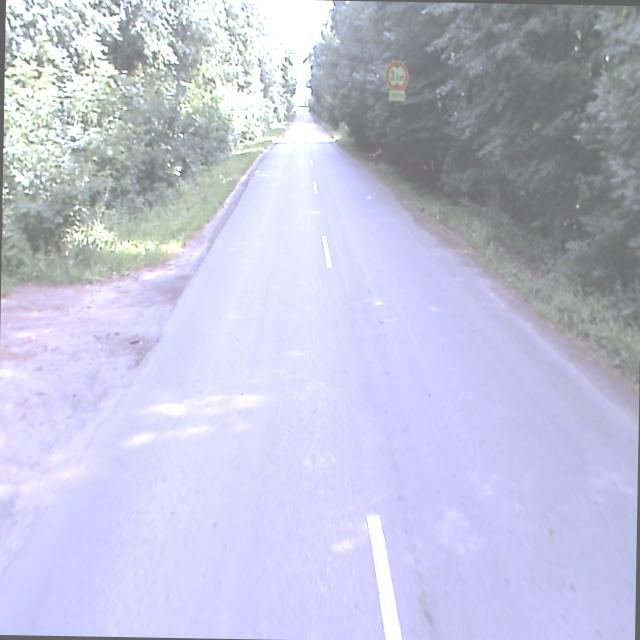road: (0, 111, 638, 640)
